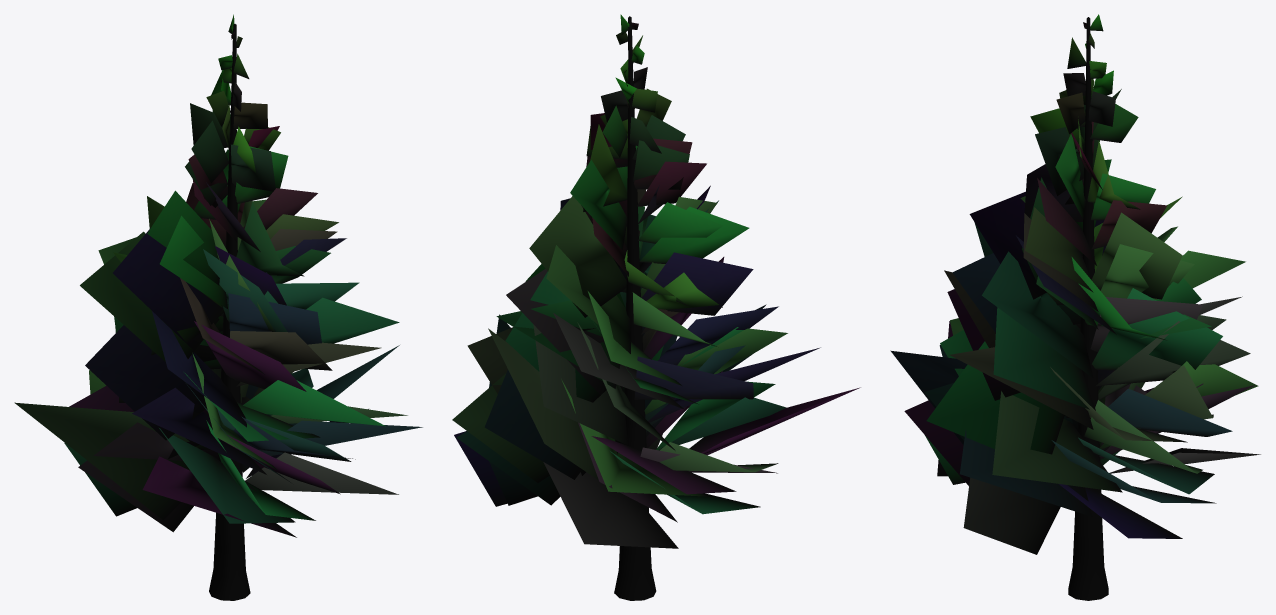
Rendered from Pine.FBX.
3 views of the same model, side by side, from view 1: azimuth 30°, elevation 25°; view 2: azimuth 150°, elevation 25°; view 3: azimuth 270°, elevation 25° (orthographic).
Parts seen in each view (by area): view 1: Tree_0; view 2: Tree_0; view 3: Tree_0.
Boxes of the visible parts, x1,y1,x2,y2 form: Tree_0: [14, 14, 422, 600]; Tree_0: [452, 14, 860, 600]; Tree_0: [890, 14, 1260, 600].
Bounding box in the file's own units: 74.26 × 124 × 71.86.
